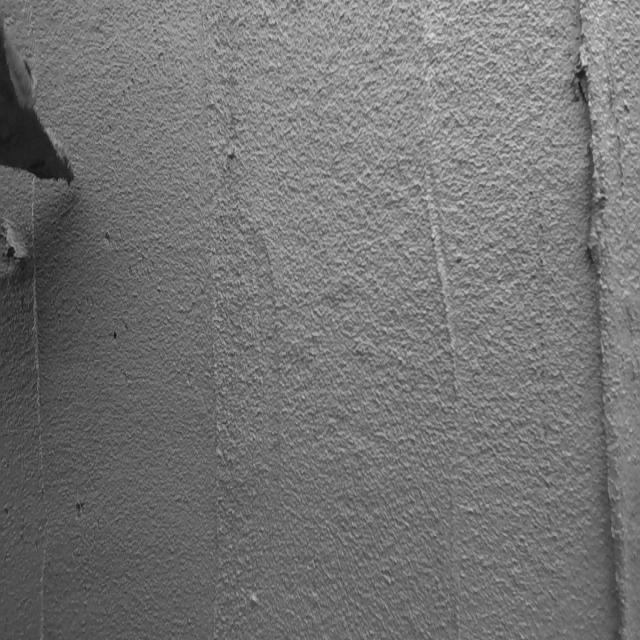trowels marks: (573, 25, 632, 640), (26, 209, 58, 640)
